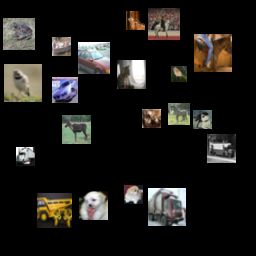airplane: (202, 213, 234, 245)
automobile: (33, 197, 59, 223)
bird: (159, 14, 194, 49), (9, 87, 41, 119), (104, 5, 133, 34), (101, 60, 130, 89), (203, 63, 219, 79)
cat: (72, 161, 91, 180), (200, 131, 219, 150), (154, 59, 170, 75)
dog: (58, 104, 87, 133), (177, 67, 196, 86)
frog: (42, 10, 80, 48), (202, 4, 240, 42), (106, 126, 141, 161), (105, 96, 131, 122)
